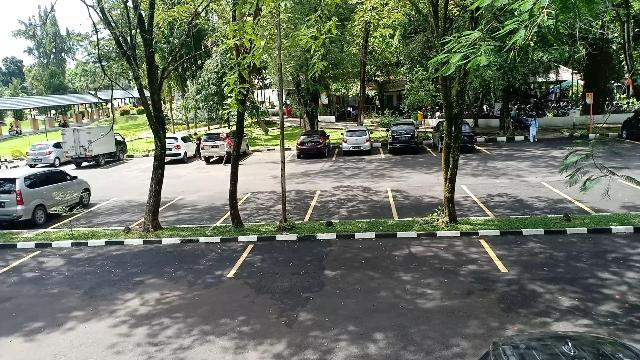empty: (237, 240, 507, 280), (18, 247, 244, 285), (480, 179, 580, 223), (392, 180, 482, 226), (307, 185, 395, 227), (226, 188, 314, 228), (73, 195, 177, 228), (154, 194, 228, 232)
occupied: (0, 176, 90, 229), (336, 132, 382, 162), (382, 132, 428, 158), (288, 138, 336, 162)
